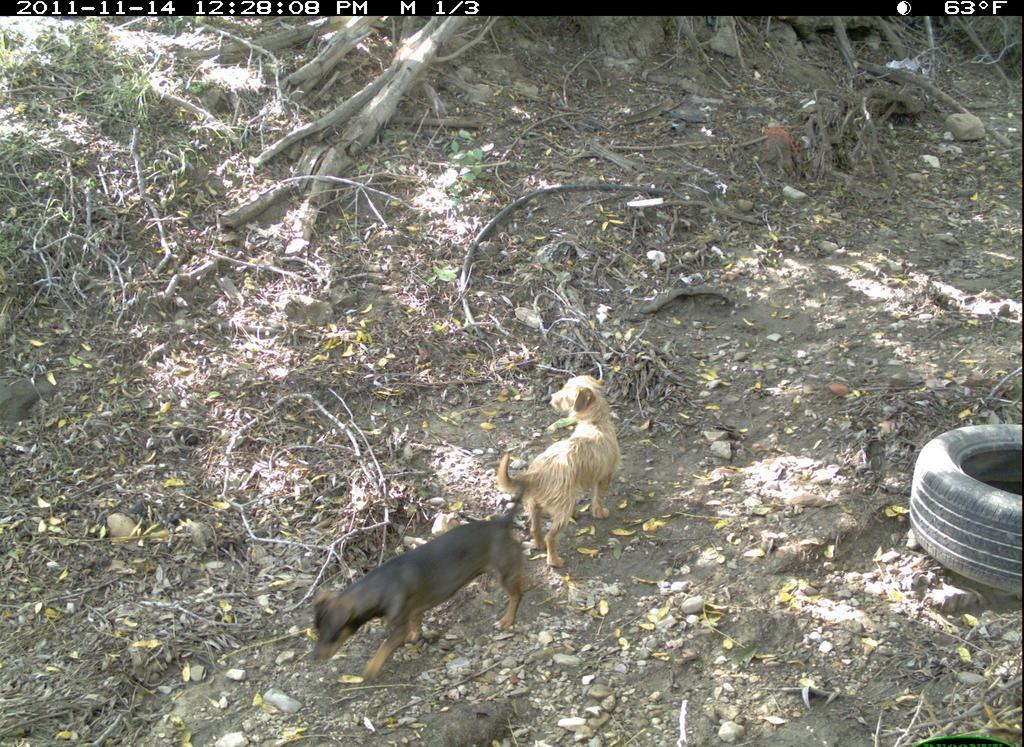dog: (281, 500, 551, 675), (496, 373, 652, 568)
